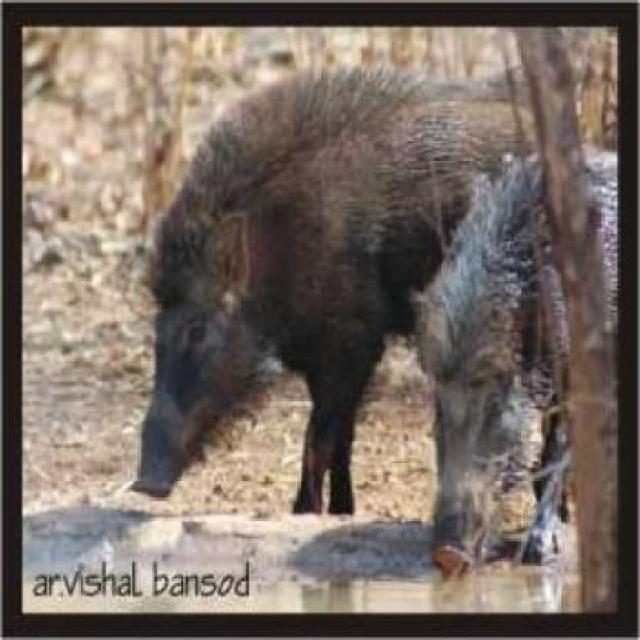pig: (114, 74, 469, 547), (384, 132, 640, 592)
